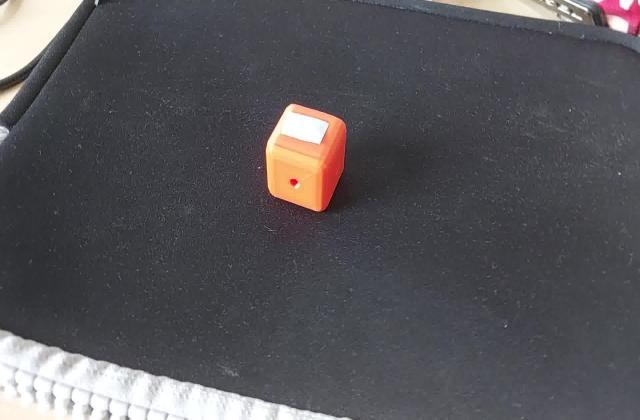sticker: (259, 98, 347, 215)
white: (284, 116, 332, 148)
